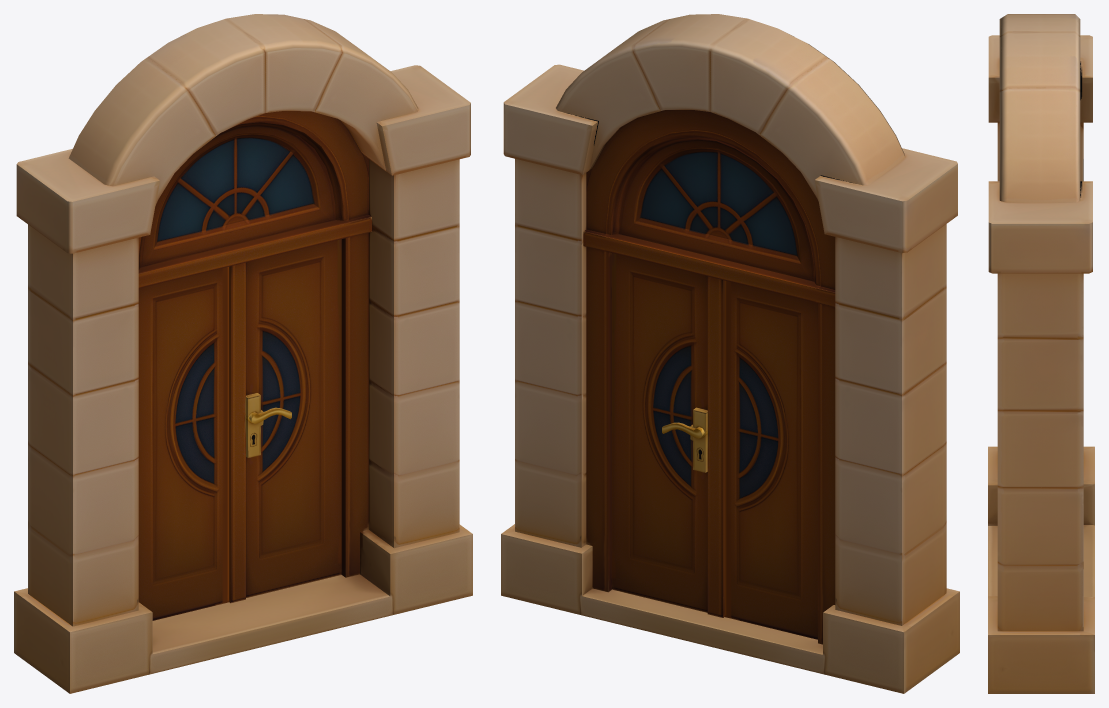
The model's file is Door.fbx.
3 views of the same model, side by side, from view 1: azimuth 30°, elevation 25°; view 2: azimuth 150°, elevation 25°; view 3: azimuth 270°, elevation 25° (orthographic). The views are drawn at different scales.
Parts seen in each view (by area): view 1: Door, doorR, doorL; view 2: Door, doorR, doorL; view 3: Door.
Part boxes in pixels (x1,y1,x2,y2): Door: (14, 14, 472, 693); doorR: (229, 239, 341, 603); doorL: (138, 267, 229, 620); Door: (501, 14, 959, 693); doorR: (612, 253, 724, 617); doorL: (724, 280, 817, 639); Door: (988, 14, 1094, 693).
Bounding box in the file's own units: 213 × 299 × 51.07.
